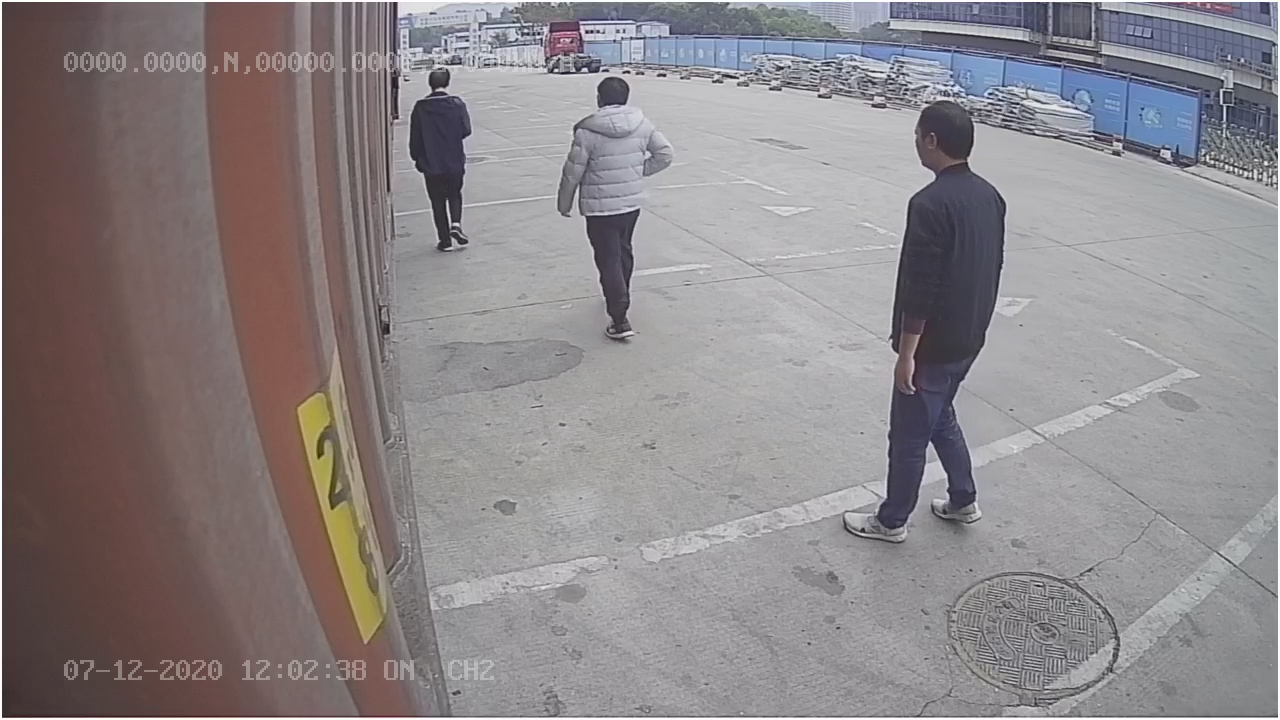person: (840, 92, 1010, 544), (555, 74, 676, 342)
